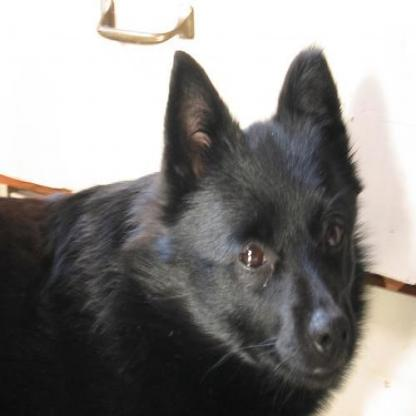schipperke: (0, 47, 363, 414)
